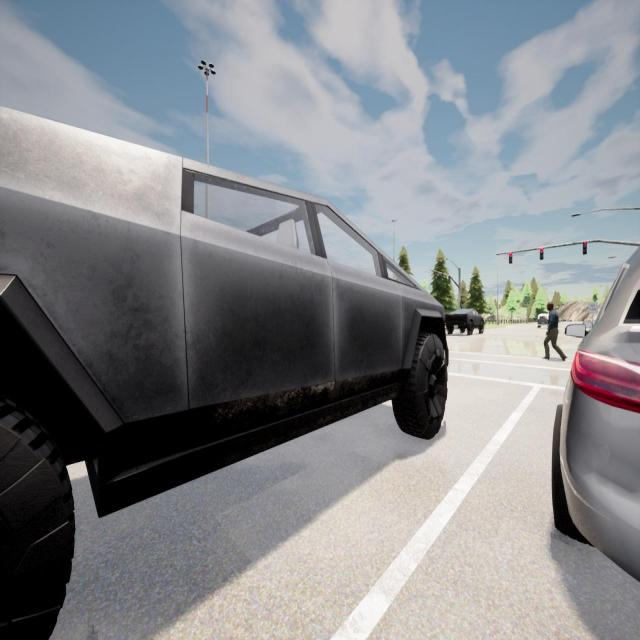Pedestrian: (543, 302, 566, 360)
Traffic_Signs: (587, 302, 598, 313)
Vehicle: (0, 108, 449, 636), (552, 247, 640, 583), (446, 309, 484, 334), (536, 312, 550, 329)
traffic_light: (583, 242, 586, 255), (540, 248, 543, 260), (509, 253, 512, 264)
